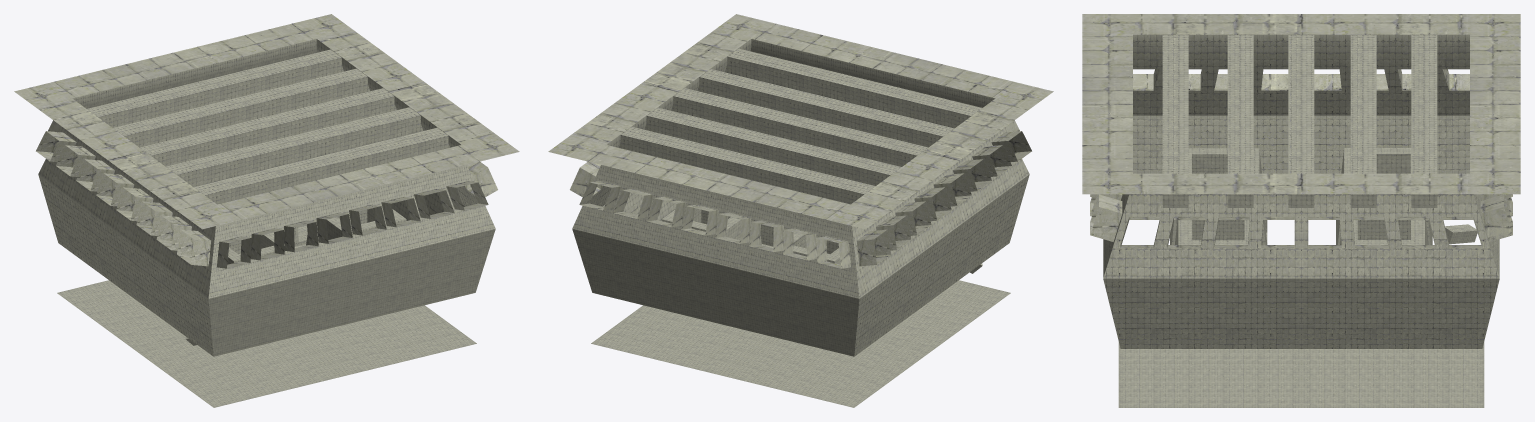
The model's file is SM_LDFest_12_Blockout00.fbx.
The picture shows the model from 3 angles, left to right: view 1: azimuth 30°, elevation 25°; view 2: azimuth 150°, elevation 25°; view 3: azimuth 270°, elevation 25°; orthographic projection. The views are drawn at different scales.
Visible parts, largest first — view 1: SM_LDFest_12_Blockout00; view 2: SM_LDFest_12_Blockout00; view 3: SM_LDFest_12_Blockout00.
Boxes of the visible parts, x1=… form: SM_LDFest_12_Blockout00: x1=14, y1=14, x2=519, y2=407; SM_LDFest_12_Blockout00: x1=548, y1=14, x2=1053, y2=407; SM_LDFest_12_Blockout00: x1=1082, y1=14, x2=1520, y2=407.
Size of the model in its own units: 4928 by 2916 by 5062.
